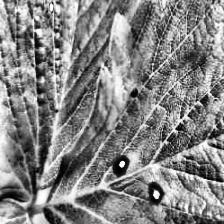Leaf Spot: (41, 0, 224, 224), (0, 0, 157, 214)
